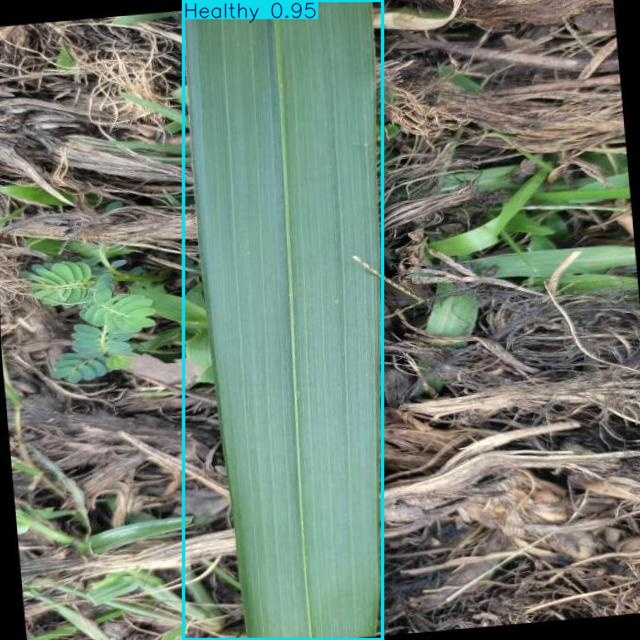Healthy: (183, 0, 382, 640)
